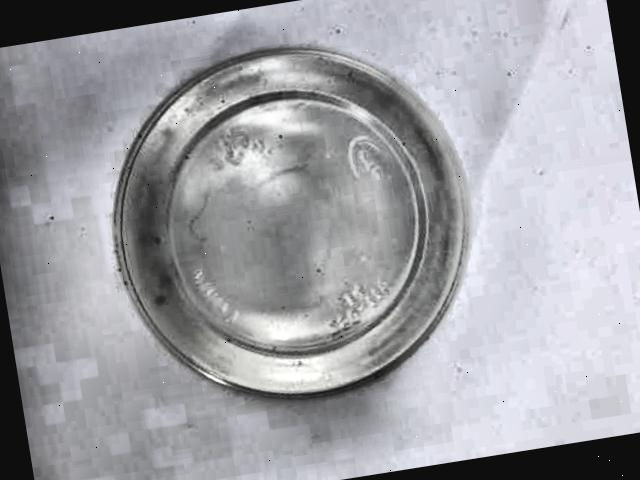Plastic: (72, 15, 512, 430)
